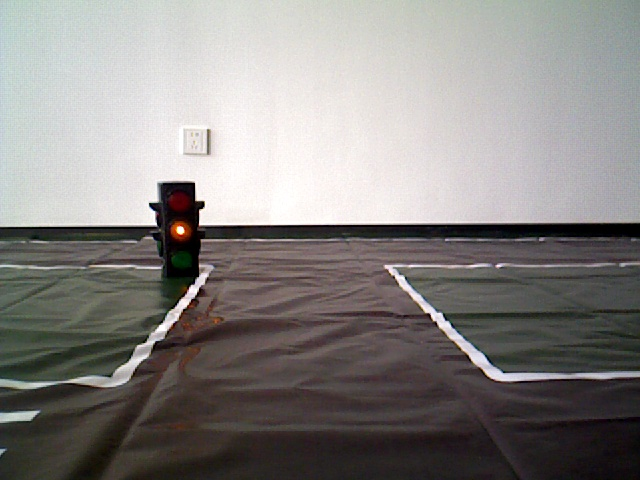yellow: (151, 182, 202, 274)
